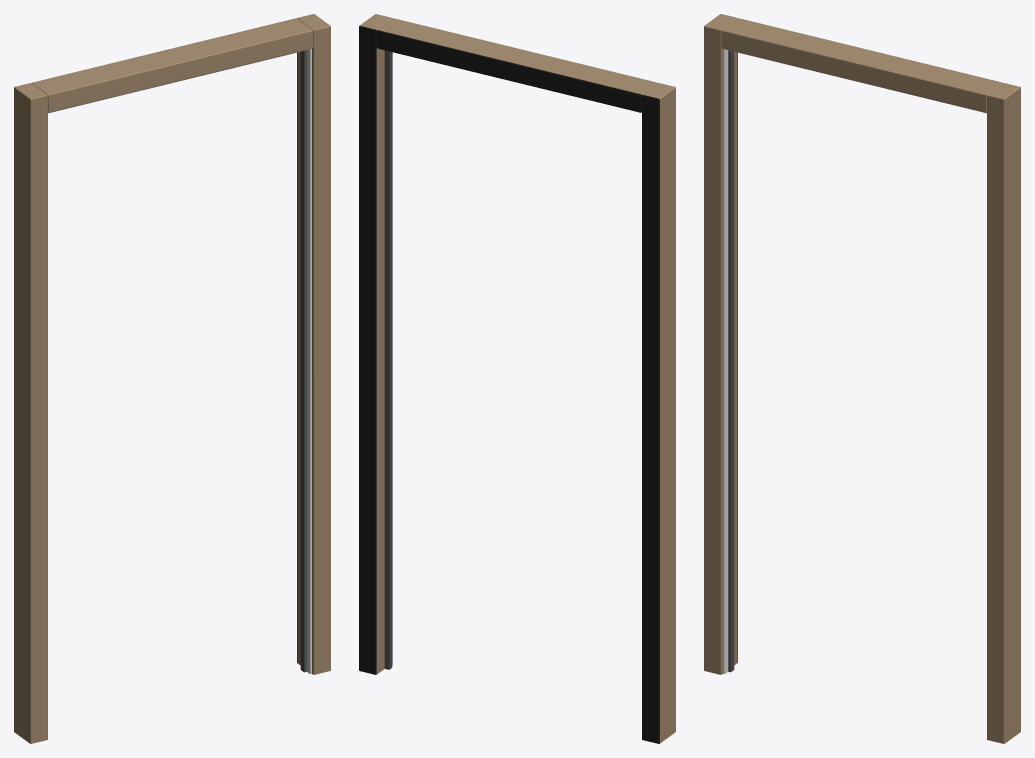
The model's file is Door_Enter_Frame.fbx.
The picture shows the model from 3 angles, left to right: view 1: azimuth 30°, elevation 25°; view 2: azimuth 150°, elevation 25°; view 3: azimuth 330°, elevation 25°; orthographic projection.
Visible parts, largest first — view 1: Door_Enter_Frame; view 2: Door_Enter_Frame; view 3: Door_Enter_Frame.
Boxes of the visible parts, x1=… form: Door_Enter_Frame: x1=14, y1=14, x2=330, y2=743; Door_Enter_Frame: x1=359, y1=14, x2=675, y2=743; Door_Enter_Frame: x1=704, y1=14, x2=1020, y2=743.
Bounding box in the file's own units: 102 × 209 × 10.
